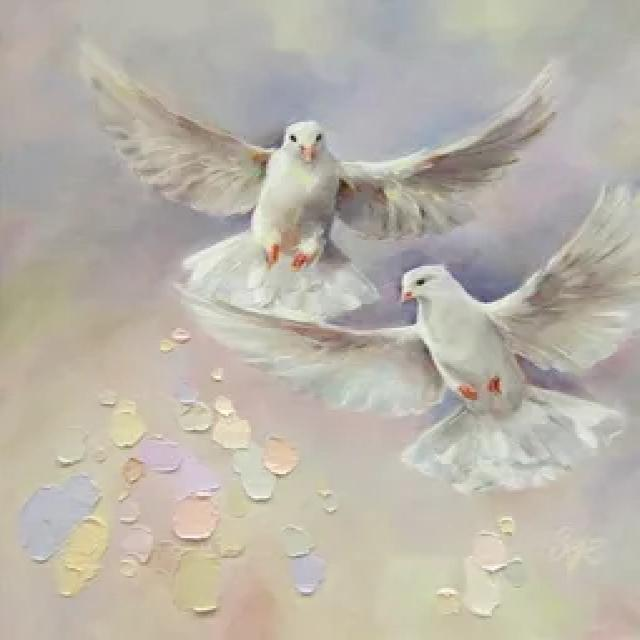pigeon: (55, 4, 567, 313)
